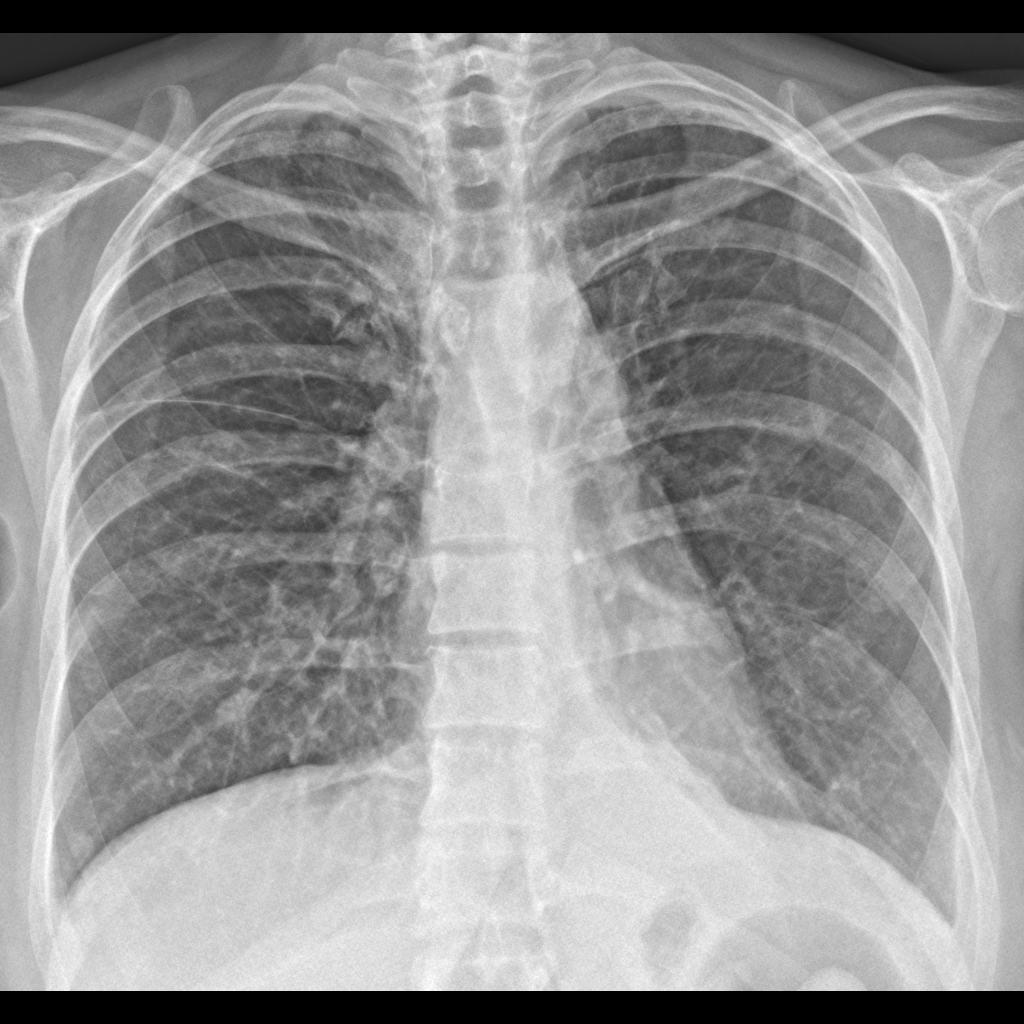Nodule: (209, 675, 263, 740)
